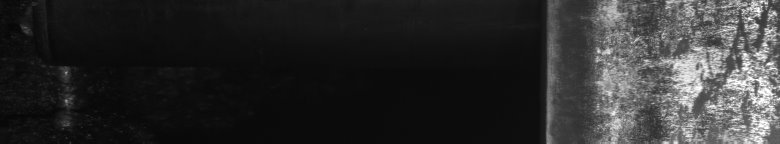kb: (581, 4, 776, 136)
